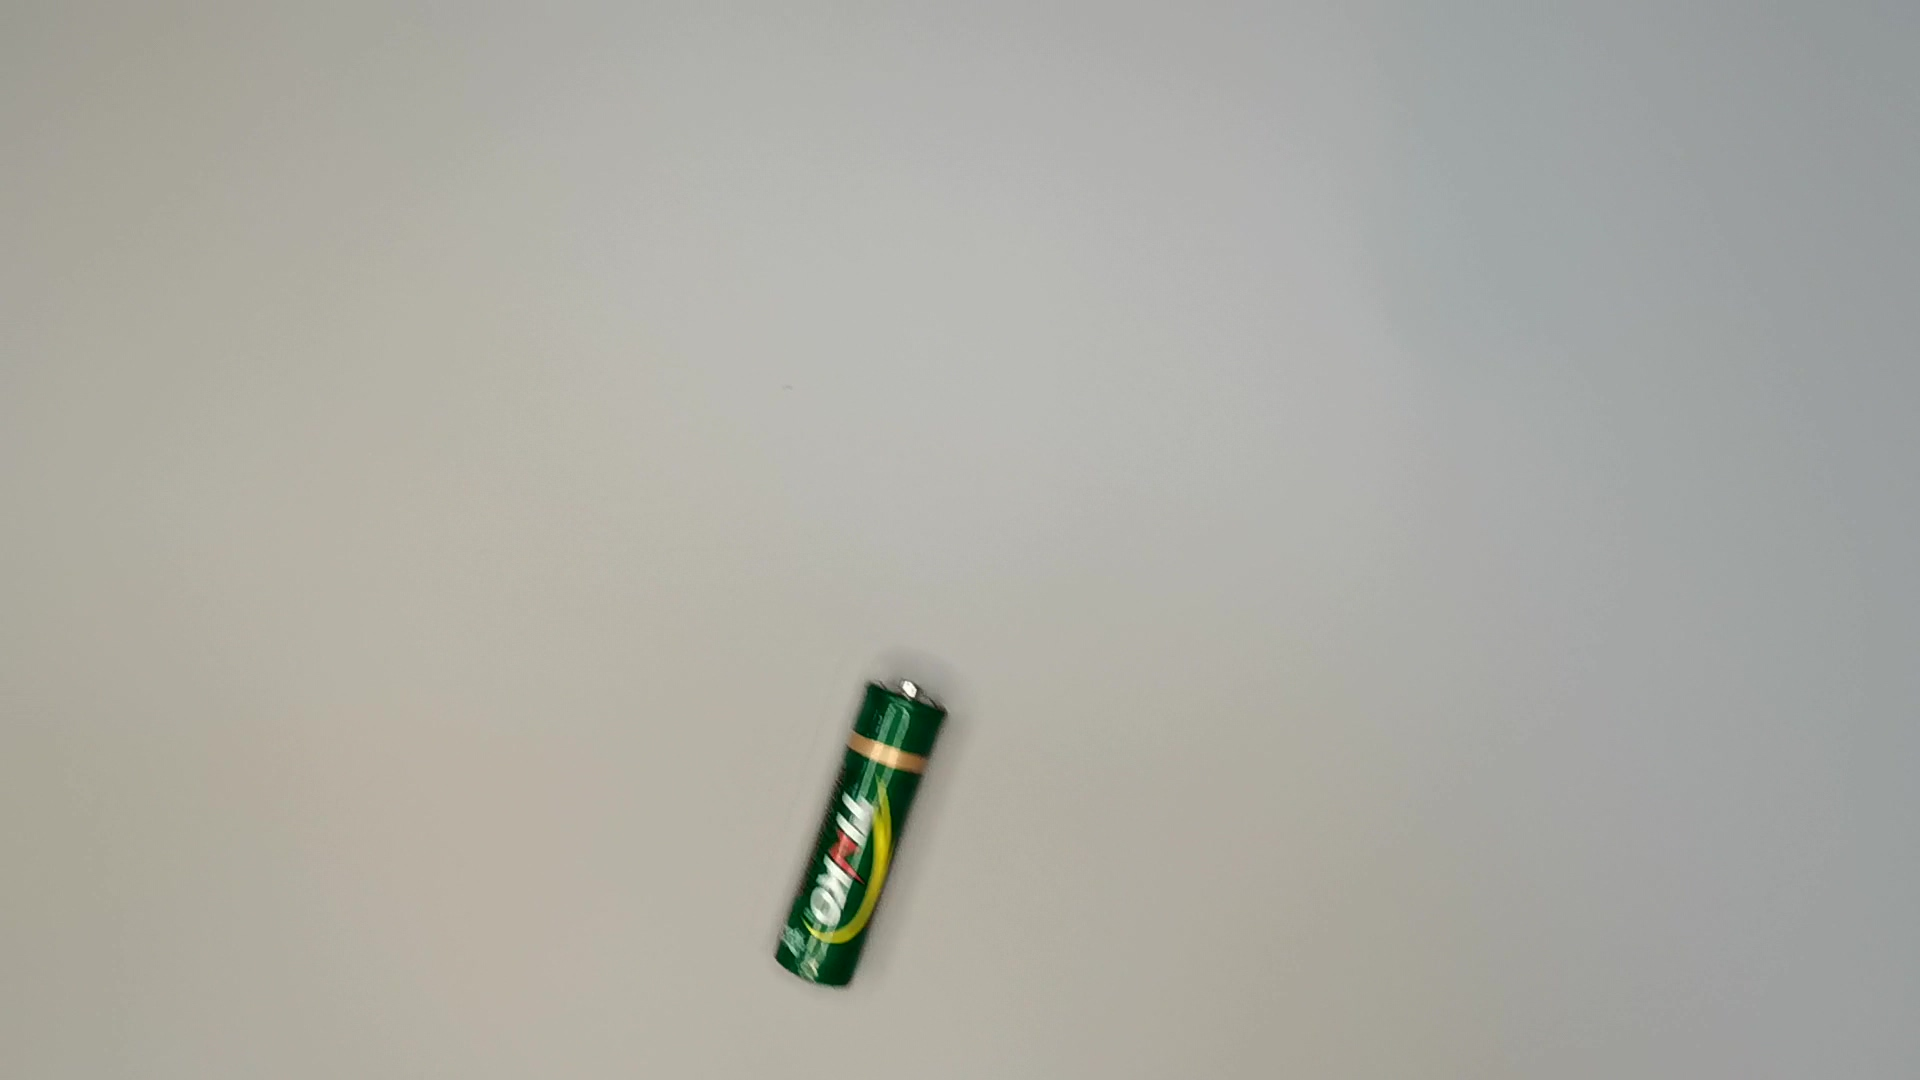battery: (774, 674, 952, 990)
